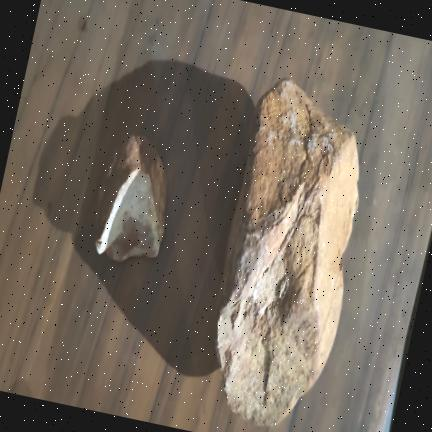Rocks: (217, 80, 358, 425), (97, 136, 166, 261)
